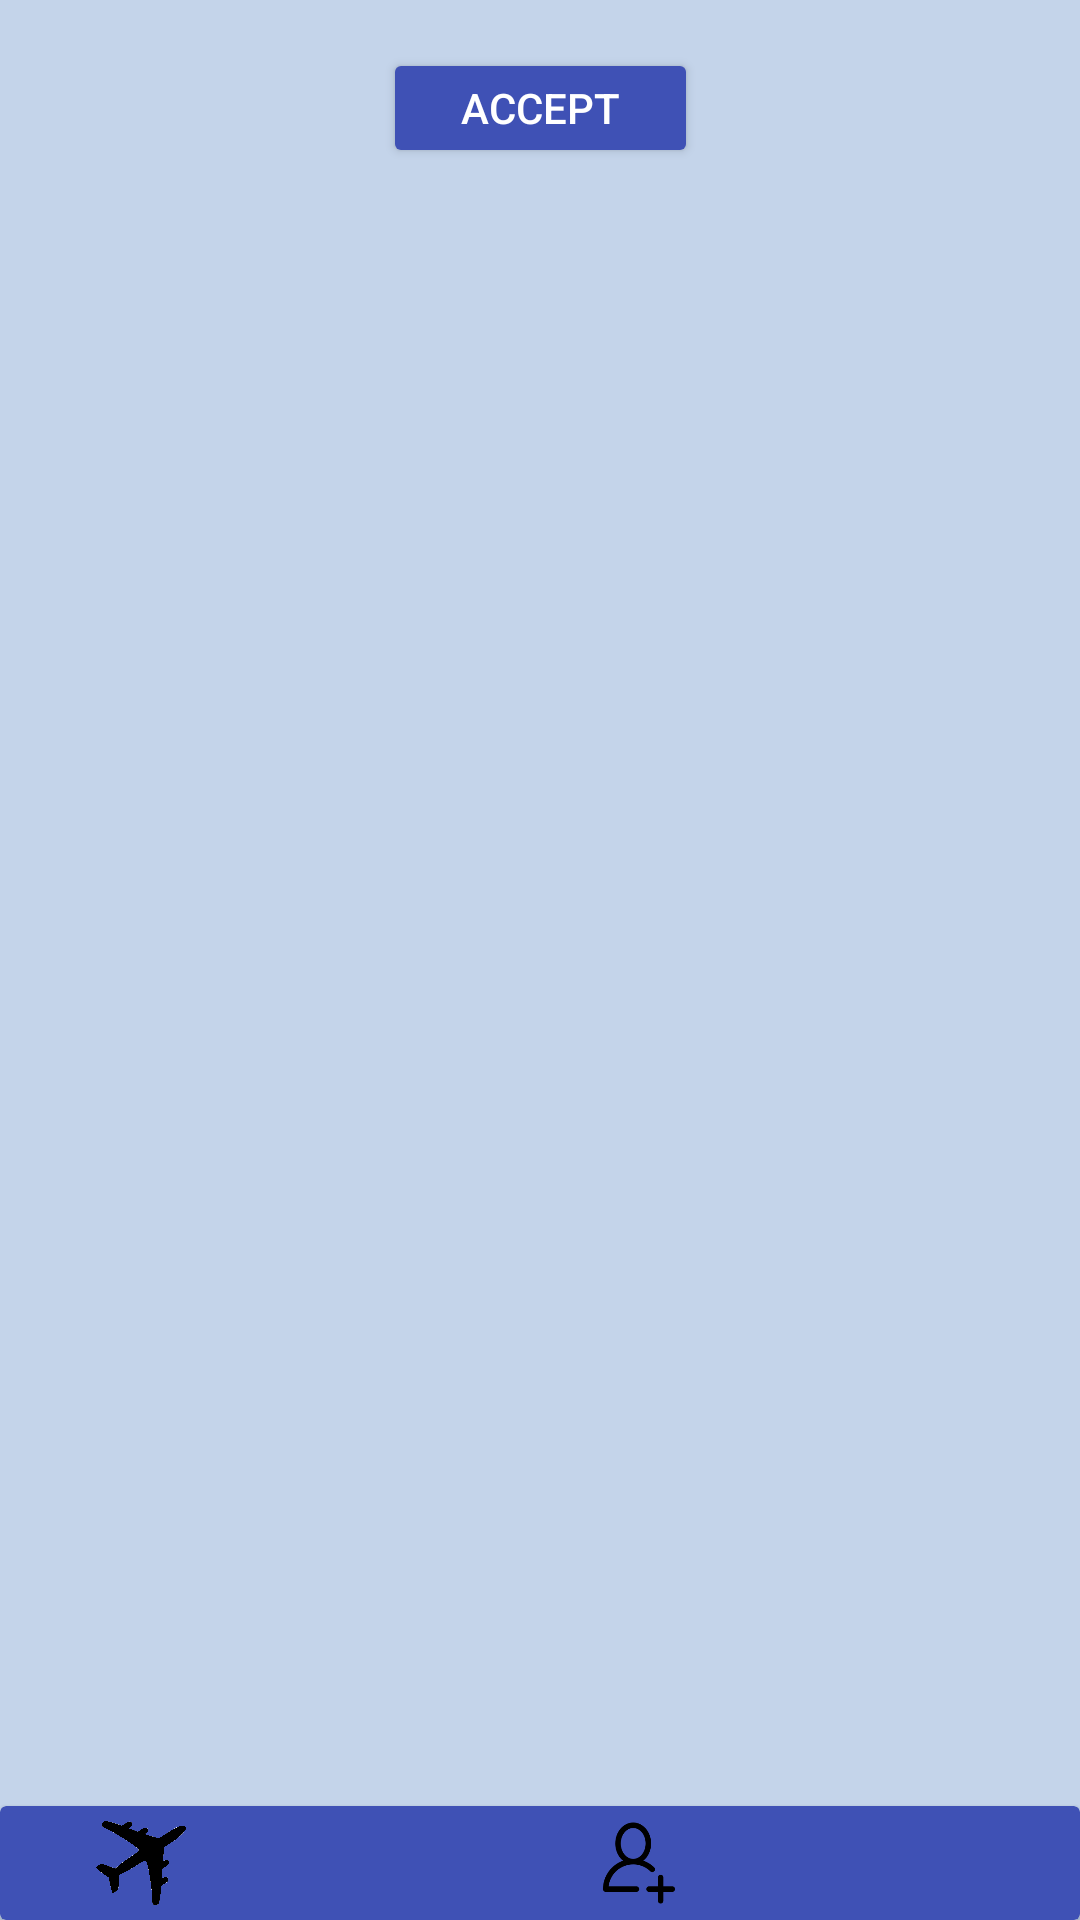

Icons on this 1080 × 1920 Android screen, each with its box as (x1, y1, x2, y2):
plane: (96, 1821, 186, 1905)
